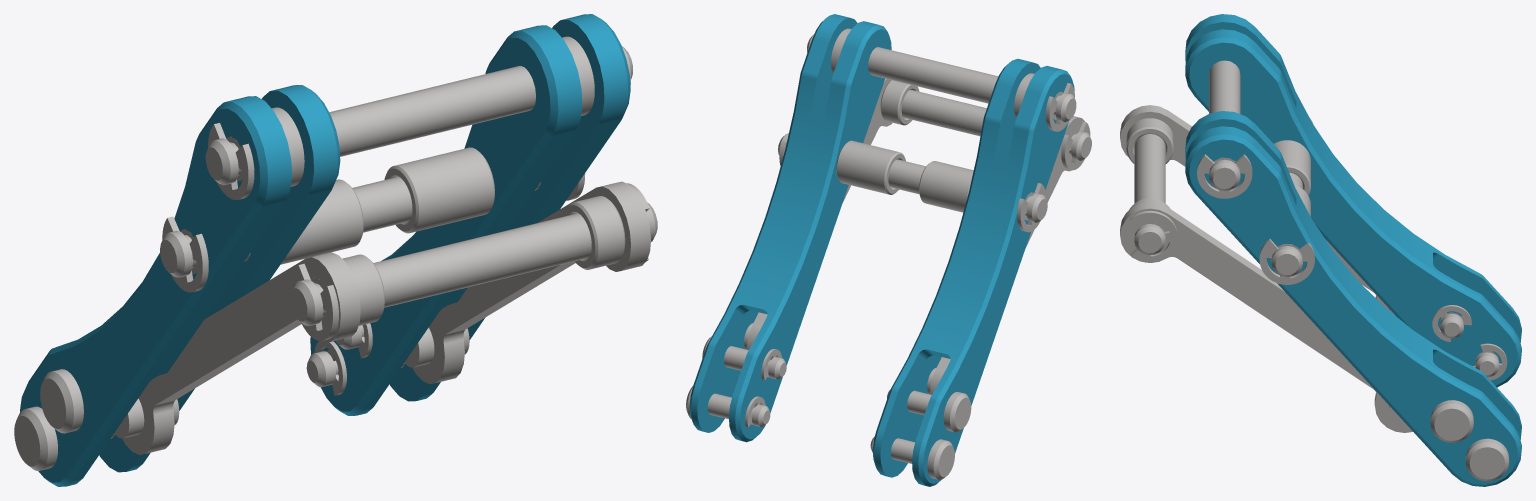
The model's file is RARM_INDEX_LINK1_mesh.dae.
The picture shows the model from 3 angles, left to right: view 1: azimuth 30°, elevation 25°; view 2: azimuth 150°, elevation 25°; view 3: azimuth 270°, elevation 25°; orthographic projection. The views are drawn at different scales.
Visible parts, largest first — view 1: サーフェス1_ncl1_2, サーフェス1_ncl1_1, サーフェス1_ncl1_3, サーフェス1_ncl1_34, サーフェス1_ncl1_25, サーフェス1, サーフェス1_ncl1_13, サーフェス1_ncl1_16, サーフェス1_ncl1_12, サーフェス1_ncl1_32, サーフェス1_ncl1_30, サーフェス1_ncl1_31 (+10 smaller); view 2: サーフェス1_ncl1_1, サーフェス1_ncl1_2, サーフェス1_ncl1_25, サーフェス1_ncl1_34, サーフェス1_ncl1_13, サーフェス1_ncl1_12, サーフェス1_ncl1_16, サーフェス1_ncl1_31, サーフェス1_ncl1_30, サーフェス1_ncl1_3, サーフェス1_ncl1_32, サーフェス1_ncl1_28 (+5 smaller); view 3: サーフェス1_ncl1_1, サーフェス1_ncl1_2, サーフェス1, サーフェス1_ncl1_34, サーフェス1_ncl1_25, サーフェス1_ncl1_3, サーフェス1_ncl1_29, サーフェス1_ncl1_28, サーフェス1_ncl1_33, サーフェス1_ncl1_22, サーフェス1_ncl1_17, サーフェス1_ncl1_15 (+5 smaller).
Part boxes in pixels (bbox=[...]): サーフェス1_ncl1_2: bbox=[20, 85, 340, 486]; サーフェス1_ncl1_1: bbox=[310, 14, 630, 415]; サーフェス1_ncl1_3: bbox=[122, 252, 360, 454]; サーフェス1_ncl1_34: bbox=[290, 202, 657, 326]; サーフェス1_ncl1_25: bbox=[205, 46, 632, 185]; サーフェス1: bbox=[412, 181, 650, 383]; サーフェス1_ncl1_13: bbox=[384, 147, 494, 233]; サーフェス1_ncl1_16: bbox=[160, 177, 540, 277]; サーフェス1_ncl1_12: bbox=[280, 179, 363, 264]; サーフェス1_ncl1_32: bbox=[563, 196, 625, 269]; サーフェス1_ncl1_30: bbox=[40, 369, 83, 433]; サーフェス1_ncl1_31: bbox=[14, 406, 114, 470]; サーフェス1_ncl1_1: bbox=[689, 14, 891, 442]; サーフェス1_ncl1_2: bbox=[872, 58, 1074, 486]; サーフェス1_ncl1_25: bbox=[807, 34, 1076, 122]; サーフェス1_ncl1_34: bbox=[901, 90, 1091, 160]; サーフェス1_ncl1_13: bbox=[836, 140, 905, 194]; サーフェス1_ncl1_12: bbox=[919, 161, 973, 212]; サーフェス1_ncl1_16: bbox=[778, 133, 1047, 222]; サーフェス1_ncl1_31: bbox=[870, 437, 954, 479]; サーフェス1_ncl1_30: bbox=[887, 389, 971, 432]; サーフェス1_ncl1_3: bbox=[930, 116, 1084, 394]; サーフェス1_ncl1_32: bbox=[880, 80, 919, 125]; サーフェス1_ncl1_28: bbox=[686, 386, 770, 426]; サーフェス1_ncl1_1: bbox=[1185, 111, 1521, 486]; サーフェス1_ncl1_2: bbox=[1185, 14, 1521, 387]; サーフェス1: bbox=[1120, 202, 1412, 432]; サーフェス1_ncl1_34: bbox=[1134, 134, 1165, 254]; サーフェス1_ncl1_25: bbox=[1209, 60, 1240, 190]; サーフェス1_ncl1_3: bbox=[1120, 105, 1388, 309]; サーフェス1_ncl1_29: bbox=[1430, 400, 1473, 442]; サーフェス1_ncl1_28: bbox=[1465, 438, 1509, 481]; サーフェス1_ncl1_33: bbox=[1126, 118, 1173, 163]; サーフェス1_ncl1_22: bbox=[1130, 210, 1177, 262]; サーフェス1_ncl1_17: bbox=[1197, 154, 1252, 198]; サーフェス1_ncl1_15: bbox=[1259, 238, 1314, 284].
Bounding box in the file's own units: 0.041 × 0.0508 × 0.0492.
